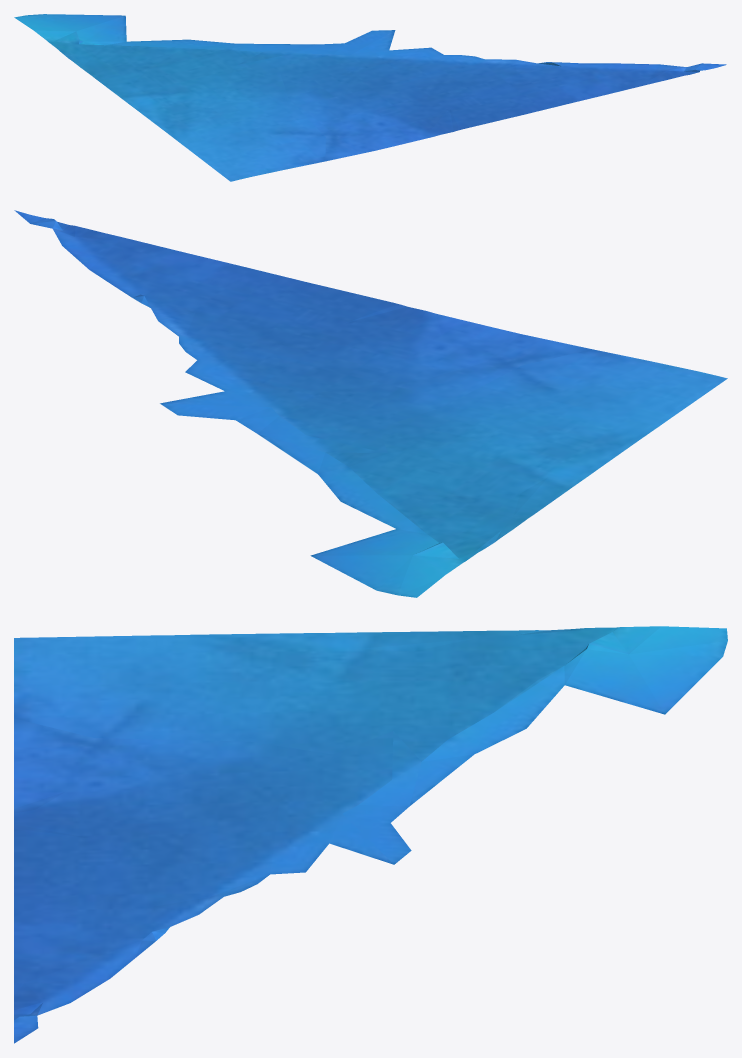
3 renders of one model, top to bottom at view 1: azimuth 30°, elevation 25°; view 2: azimuth 150°, elevation 25°; view 3: azimuth 270°, elevation 25°, orthographic. The views are drawn at different scales.
Size of the model in its own units: 43.35 by 1.09 by 32.77.
Materials: 1 (1 with a texture image).
